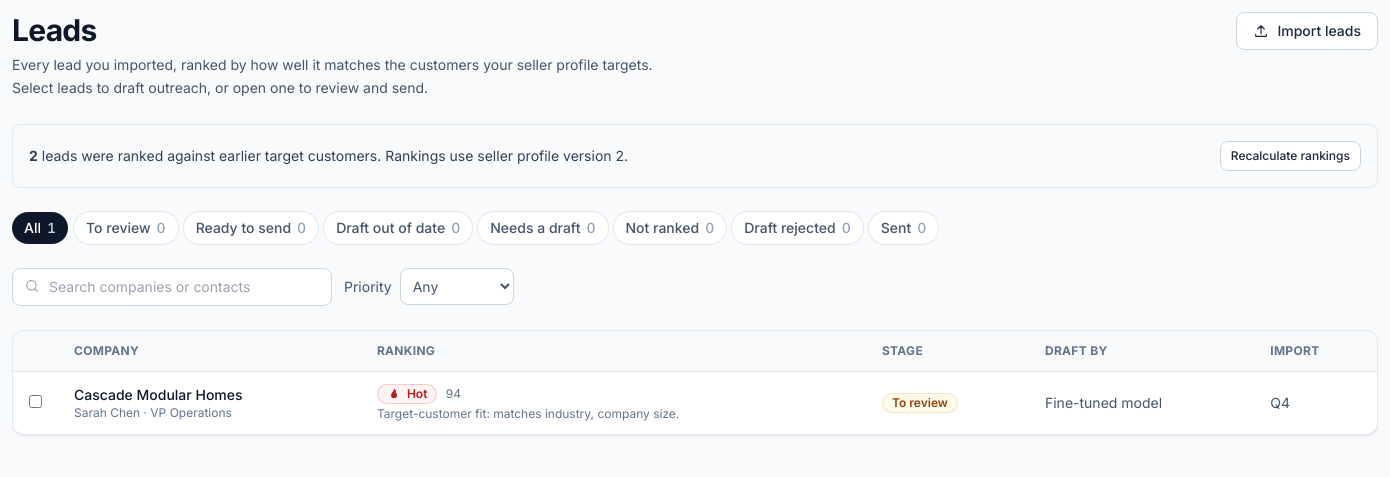
Leads › offers to recalculate outdated rankings and reloads the list
Expected: the element named "Ranking status" shows "2 leads were ranked against earlier target customers", [12,124,1378,188]
Click the button "Recalculate rankings".
click(1290, 156)  # box [1220,140,1361,170]
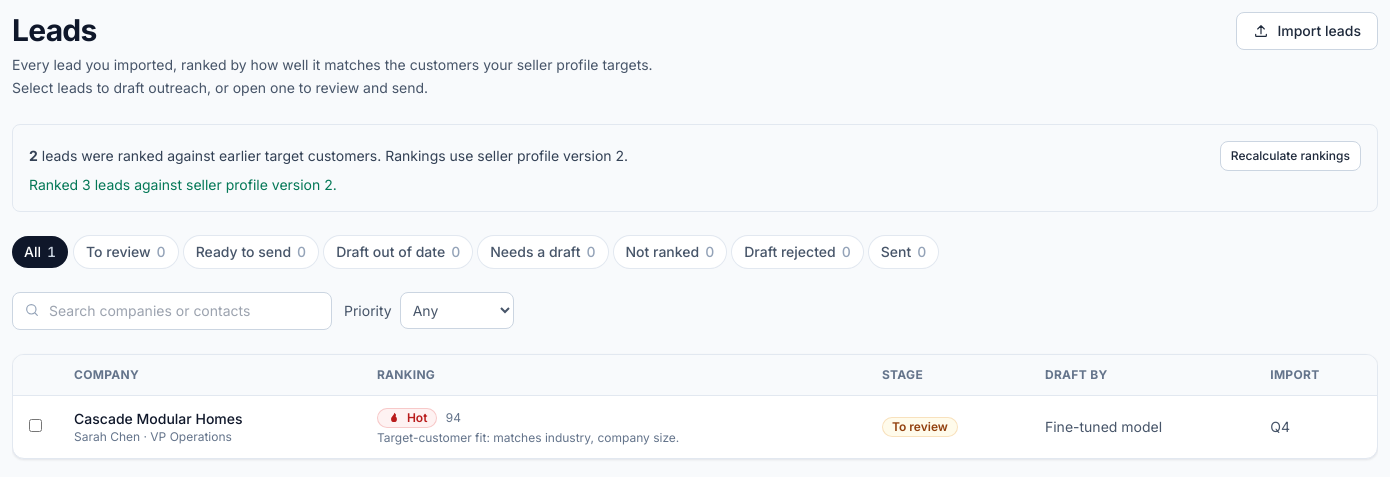
Expected: the text "Ranked 3 leads against seller profile version 2." is shown, [29,176,337,192]
